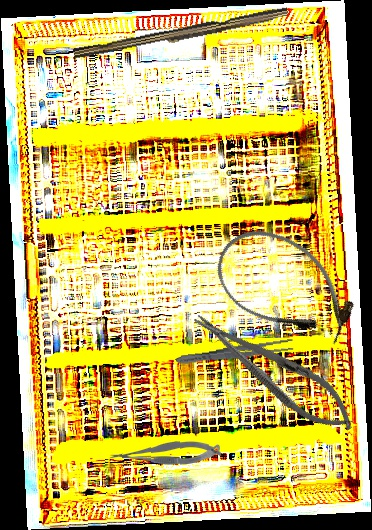Cannula: (200, 210, 371, 363)
Dressing Forceps: (174, 336, 295, 369)
Micro Scissor: (108, 438, 223, 467)
Needle Holder: (183, 297, 366, 445)
Scalpel Handle: (72, 3, 290, 66)
